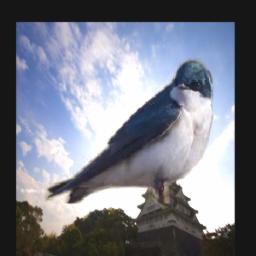Swallow: (44, 58, 214, 204)
